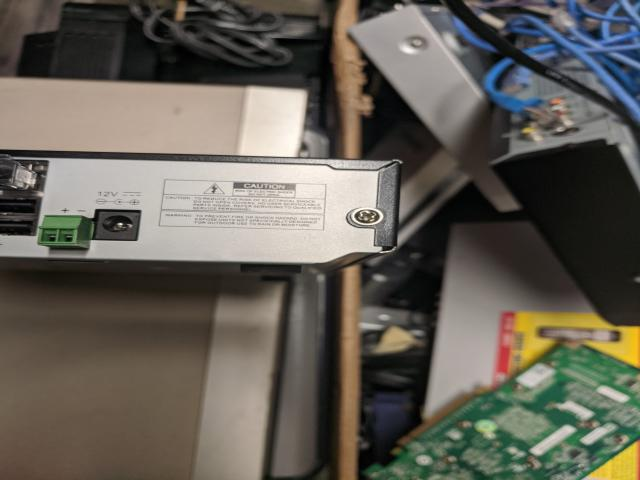CRS: (356, 209, 379, 224)
